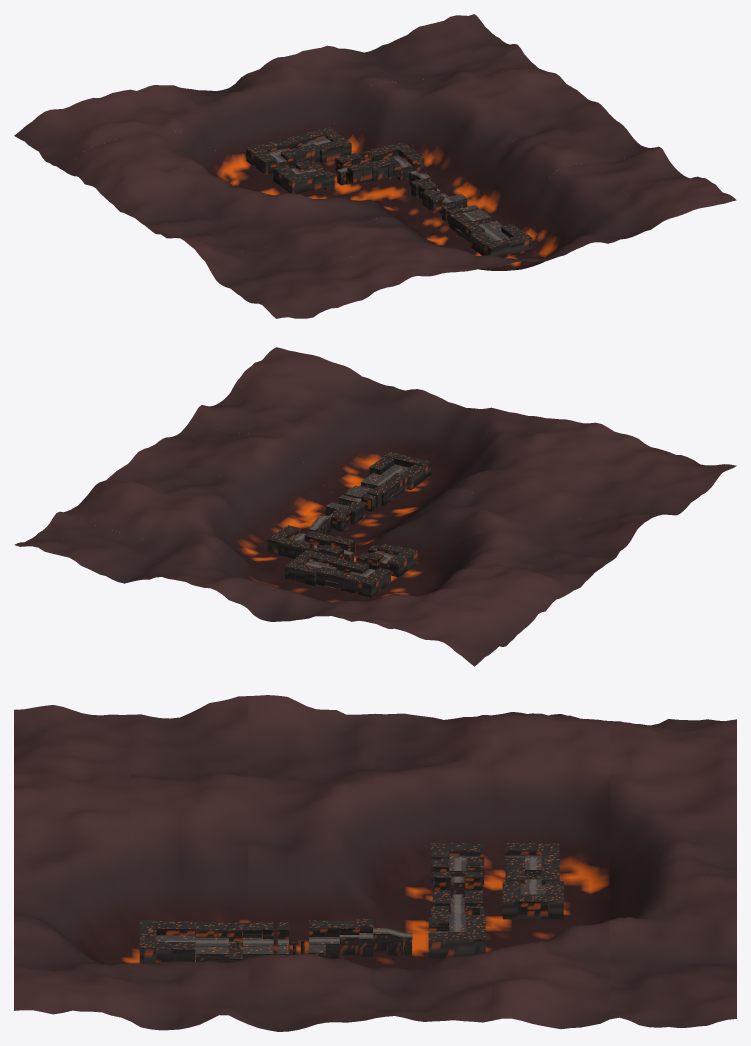
File: ember_shore_terrain.glb
The picture shows the model from 3 angles, top to bottom: view 1: azimuth 30°, elevation 25°; view 2: azimuth 150°, elevation 25°; view 3: azimuth 270°, elevation 25°; orthographic projection. The views are drawn at different scales.
Visible parts, largest first — view 1: backdrop_5, backdrop_2, backdrop_3, backdrop_4, backdrop_1, backdrop_0, terrain_I, terrain_F, terrain_H, terrain_A, terrain_B, terrain_C (+3 smaller); view 2: backdrop_0, backdrop_2, backdrop_1, backdrop_5, backdrop_3, backdrop_4, terrain_I, terrain_F, terrain_A, terrain_H, terrain_B, terrain_C (+2 smaller); view 3: backdrop_5, backdrop_2, backdrop_0, backdrop_1, backdrop_4, backdrop_3, terrain_I, terrain_F, terrain_B, terrain_D, terrain_A, terrain_G (+3 smaller).
Boxes of the visible parts, x1,y1,x2,y2 form: backdrop_5: (14, 14, 520, 168); backdrop_2: (145, 109, 650, 251); backdrop_3: (103, 80, 605, 225); backdrop_4: (60, 48, 562, 195); backdrop_1: (191, 146, 690, 291); backdrop_0: (234, 176, 736, 318); terrain_I: (246, 127, 351, 169); terrain_F: (335, 142, 416, 184); terrain_H: (258, 152, 314, 193); terrain_A: (470, 224, 532, 257); terrain_B: (449, 212, 502, 241); terrain_C: (427, 193, 483, 224); backdrop_0: (234, 347, 736, 500); backdrop_2: (145, 419, 651, 564); backdrop_1: (191, 386, 693, 523); backdrop_5: (14, 511, 520, 666); backdrop_3: (103, 448, 605, 596); backdrop_4: (62, 481, 562, 632); terrain_I: (285, 550, 383, 597); terrain_F: (267, 529, 355, 559); terrain_A: (369, 451, 431, 489); terrain_H: (351, 545, 417, 587); terrain_B: (349, 473, 407, 505); terrain_C: (325, 489, 381, 520); backdrop_5: (610, 719, 736, 1027); backdrop_2: (248, 695, 375, 1031); backdrop_0: (14, 705, 131, 1021); backdrop_1: (131, 696, 248, 1030); backdrop_4: (492, 712, 609, 1029); backdrop_3: (375, 713, 492, 1022); terrain_I: (502, 843, 563, 919); terrain_F: (431, 890, 485, 957); terrain_B: (195, 922, 262, 962); terrain_D: (325, 919, 403, 958); terrain_A: (139, 920, 195, 963); terrain_G: (431, 859, 484, 897).
Size of the model in its own units: 525 by 62.67 by 518.
